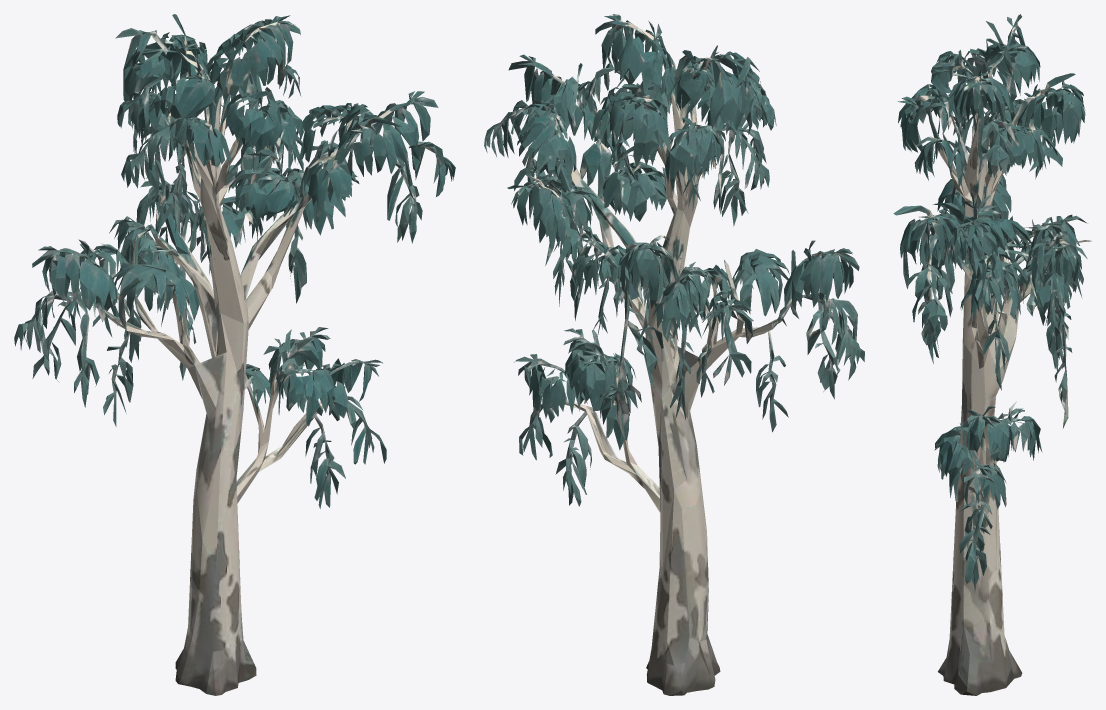
The model's file is gum_tree_tall.glb.
The picture shows the model from 3 angles, left to right: view 1: azimuth 30°, elevation 25°; view 2: azimuth 150°, elevation 25°; view 3: azimuth 270°, elevation 25°; orthographic projection. The views are drawn at different scales.
Size of the model in its own units: 1.23 by 1.9 by 0.5399.
Materials: 1 (1 with a texture image).
